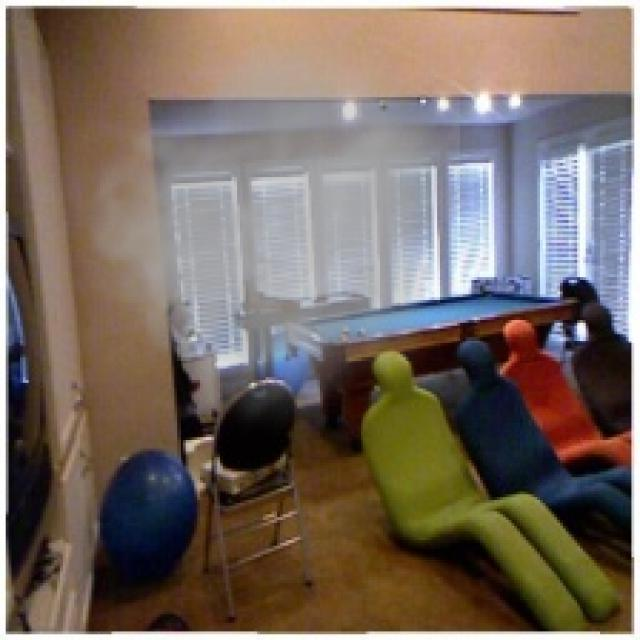Smoke: (43, 14, 460, 437)
